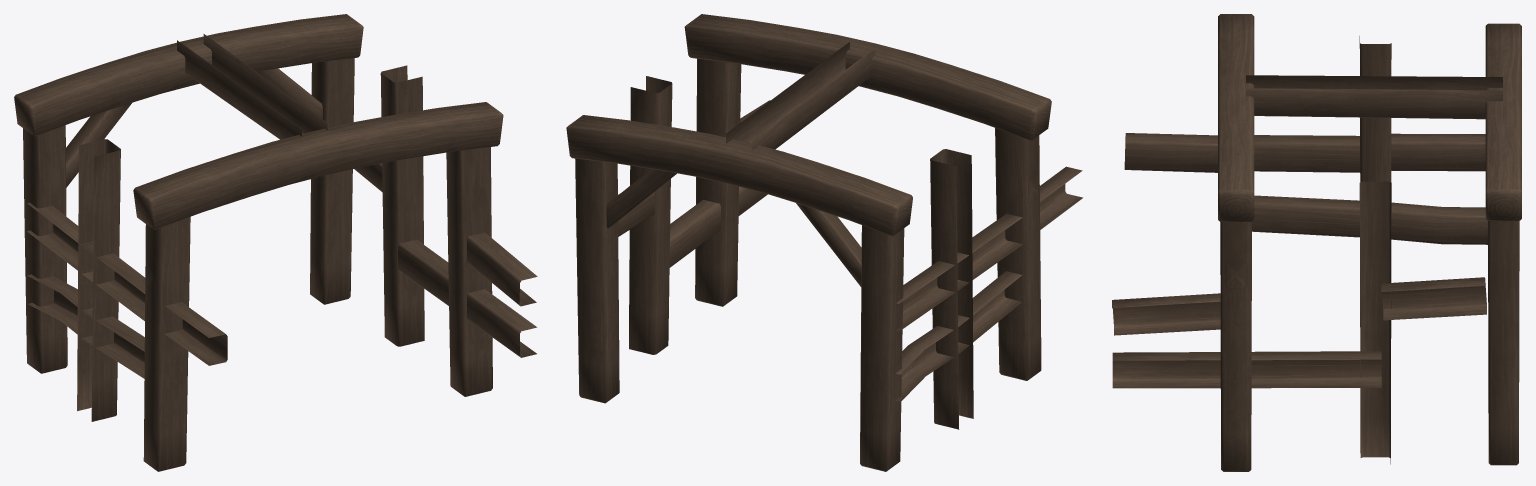
The model's file is minePath_wood1_lod.fbx.
The picture shows the model from 3 angles, left to right: view 1: azimuth 30°, elevation 25°; view 2: azimuth 150°, elevation 25°; view 3: azimuth 270°, elevation 25°; orthographic projection. The views are drawn at different scales.
Parts seen in each view (by area): view 1: shaftPath_wood1_LOD0; view 2: shaftPath_wood1_LOD0; view 3: shaftPath_wood1_LOD0.
Part boxes in pixels (box(x1,y1,x2,y2)): shaftPath_wood1_LOD0: box(14, 14, 537, 471); shaftPath_wood1_LOD0: box(566, 14, 1082, 471); shaftPath_wood1_LOD0: box(1112, 14, 1521, 471).
Size of what is drawn, in the model's own units: 443 by 354 by 429.
